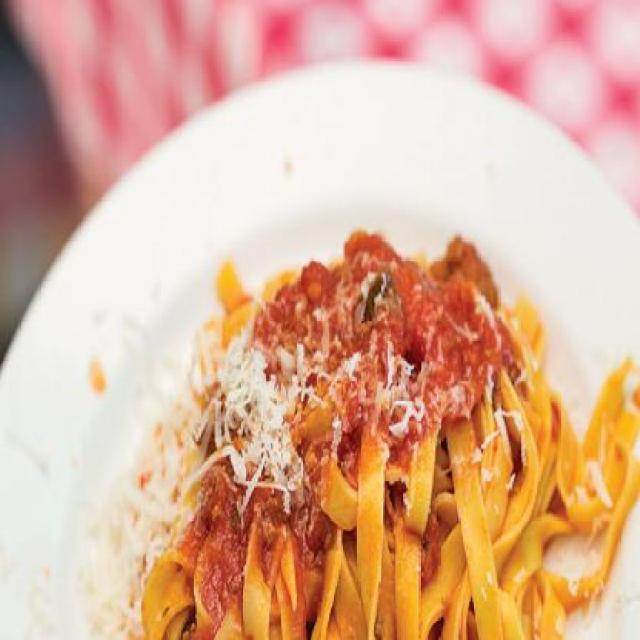Pasta al ragu: (126, 114, 640, 631)
